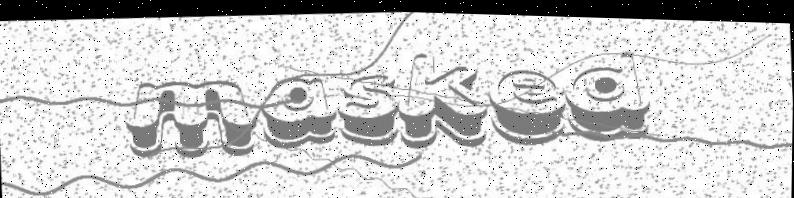a: (261, 72, 338, 148)
d: (564, 46, 652, 138)
e: (488, 64, 569, 144)
k: (395, 47, 490, 146)
m: (124, 75, 259, 161)
s: (336, 70, 400, 144)
